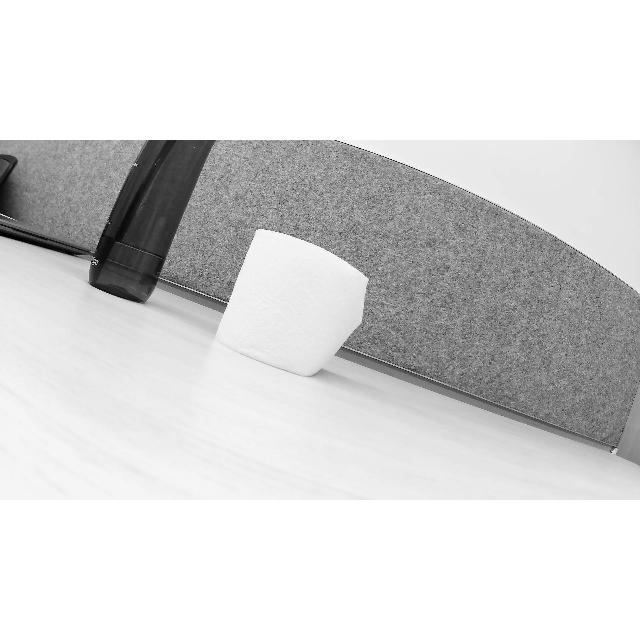targets: (212, 229, 370, 379), (86, 140, 214, 308)
